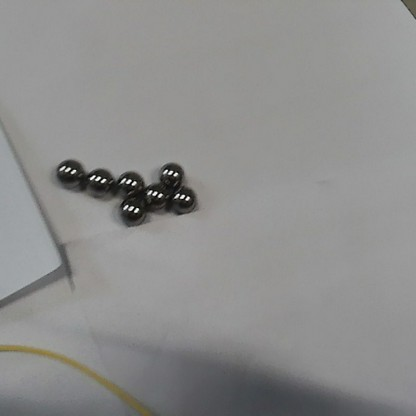ironball: (54, 157, 82, 187), (85, 167, 110, 197), (117, 170, 139, 196), (120, 198, 143, 221), (169, 188, 193, 210), (159, 161, 182, 183), (143, 184, 165, 206)
